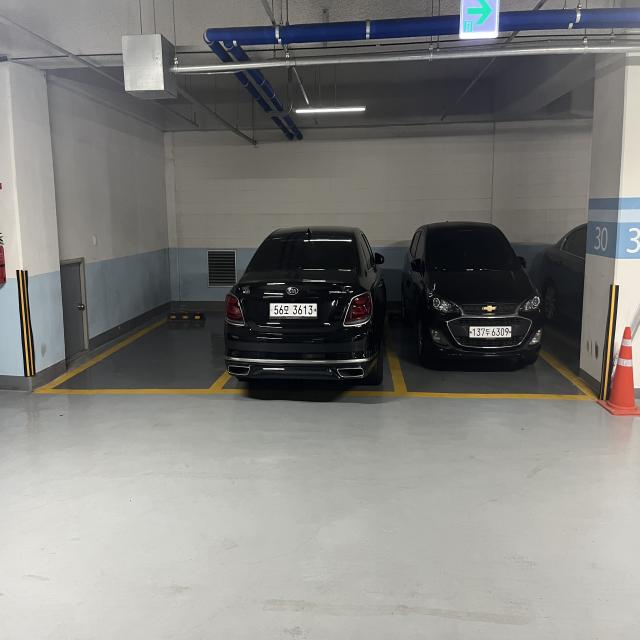empty: (81, 294, 242, 394)
occupied: (392, 230, 588, 404), (241, 244, 396, 392)
